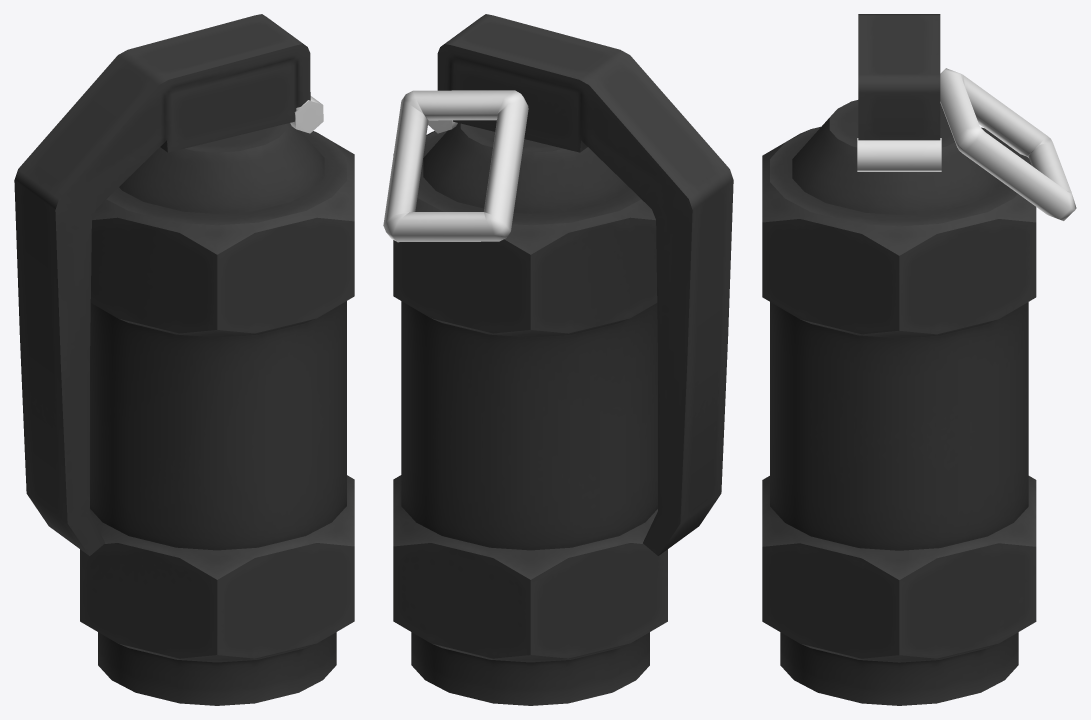
Rendered from Grenade_Ice.fbx.
3 views of the same model, side by side, from view 1: azimuth 30°, elevation 25°; view 2: azimuth 150°, elevation 25°; view 3: azimuth 270°, elevation 25° (orthographic).
Visible parts, largest first — view 1: SM_Ammunition_9; view 2: SM_Ammunition_9; view 3: SM_Ammunition_9.
Part boxes in pixels (left/top/right/bottom): SM_Ammunition_9: left=14, top=14, right=354, bottom=705; SM_Ammunition_9: left=383, top=14, right=733, bottom=705; SM_Ammunition_9: left=762, top=14, right=1076, bottom=705.
Bounding box in the file's own units: 0.3044 × 0.5548 × 0.2596.
